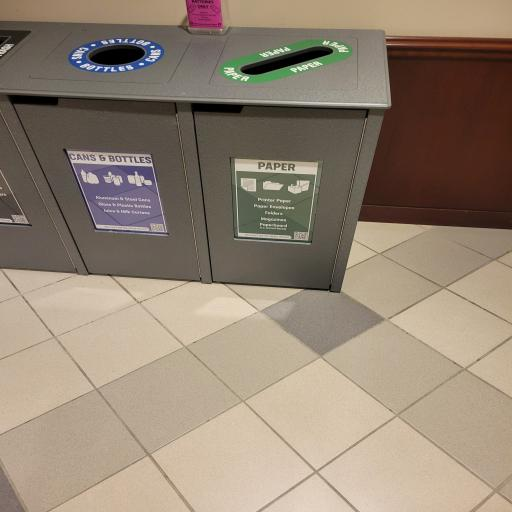can and bottle trash cans: (26, 23, 196, 287)
paper trash can: (200, 23, 378, 294)
